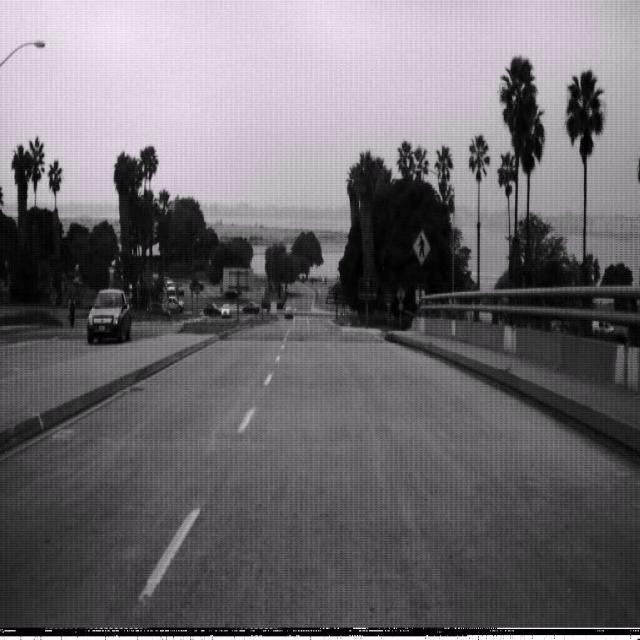pedestrianCrossing: (412, 228, 431, 265)
